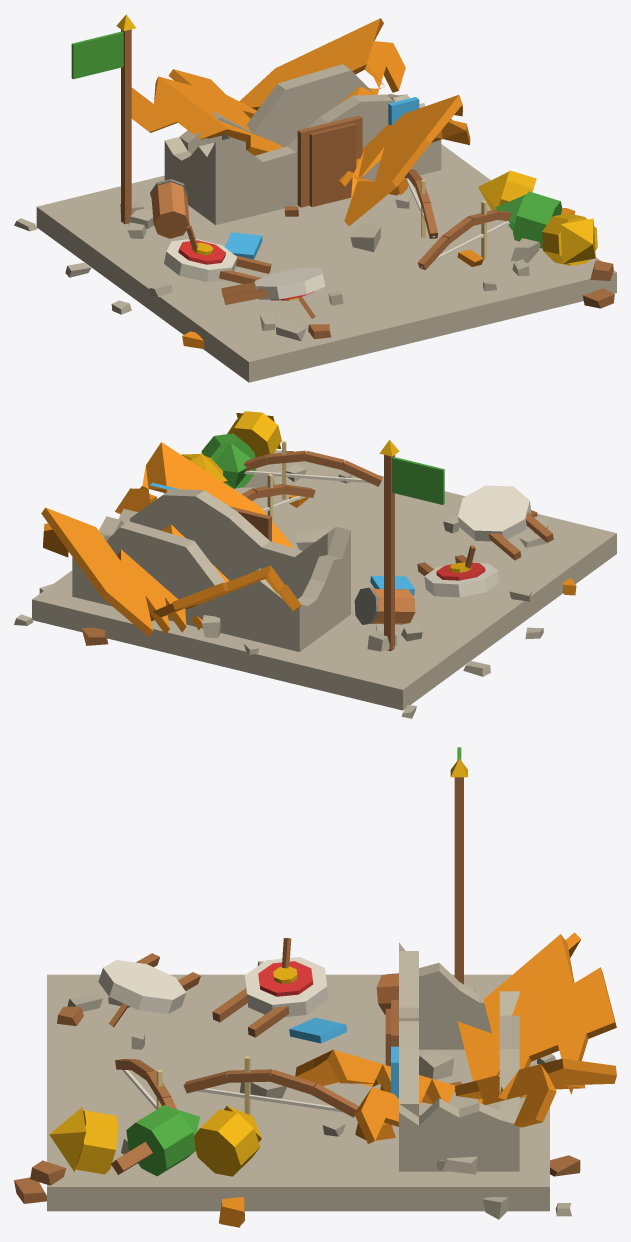
File: archery_range_t2_v2_dmg2.glb
3 views of the same model, one above another, from view 1: azimuth 30°, elevation 25°; view 2: azimuth 150°, elevation 25°; view 3: azimuth 270°, elevation 25° (orthographic). The views are drawn at different scales.
Parts seen in each view (by area): view 1: archery_range_t2_v2_dmg2; view 2: archery_range_t2_v2_dmg2; view 3: archery_range_t2_v2_dmg2.
Part boxes in pixels (<box>): archery_range_t2_v2_dmg2: <box>14,14,616,382</box>; archery_range_t2_v2_dmg2: <box>14,411,616,718</box>; archery_range_t2_v2_dmg2: <box>14,747,616,1227</box>.
Bounding box in the file's own units: 0.8797 × 0.445 × 0.8994.
Materials: 1 (1 with a texture image).
